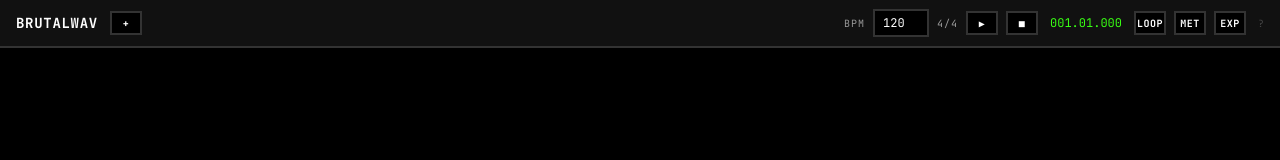
Test case: AddTrackButton › shows dropdown with Audio, Instrument, Drum options on click
Click the button named "Add Track" at point(126, 23), box left=110, top=11, right=142, bottom=35
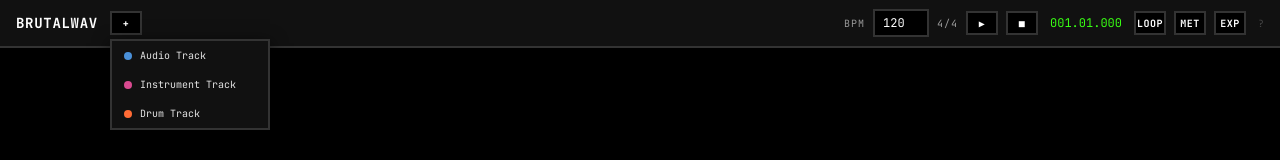
Result: the menu item "Audio Track" is shown at left=112, top=41, right=268, bottom=70
Result: the menu item "Instrument Track" is shown at left=112, top=70, right=268, bottom=99
Result: the menu item "Drum Track" is shown at left=112, top=99, right=268, bottom=128
